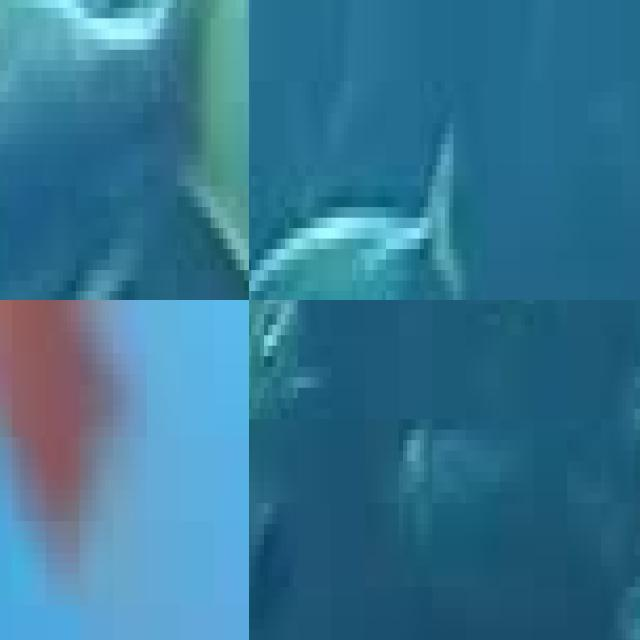fish: (0, 300, 249, 640), (0, 0, 249, 300)
